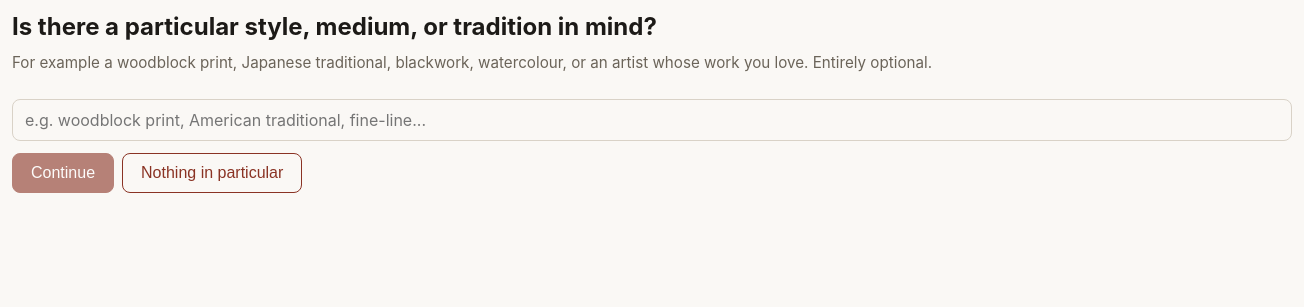
it: StyleReference -- third-party photo rights checkbox on the optional example photo › a file selected while unconfirmed is never processed -- belt-and-braces guard behind the disabled input
Type "Japanese traditional" into the field with placeholder "e.g. woodblock print, American traditional, fine-line...". click: (652, 120)
box: [12,99,1292,141]
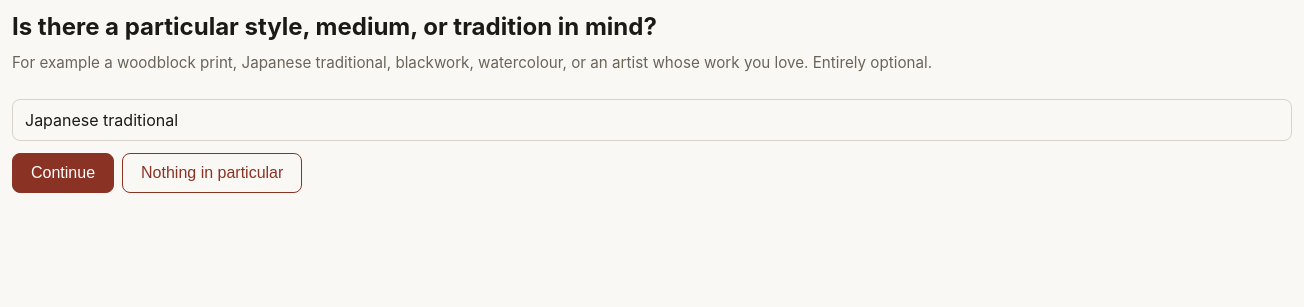
Click the button "Continue". click: (63, 173)
box: [12,153,114,193]
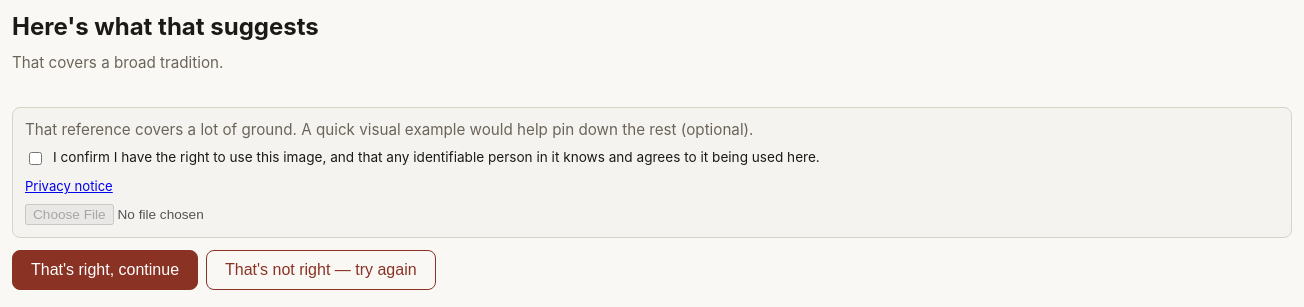
Expected: the text "That covers a broad tradition." is shown, [12,53,223,72]
